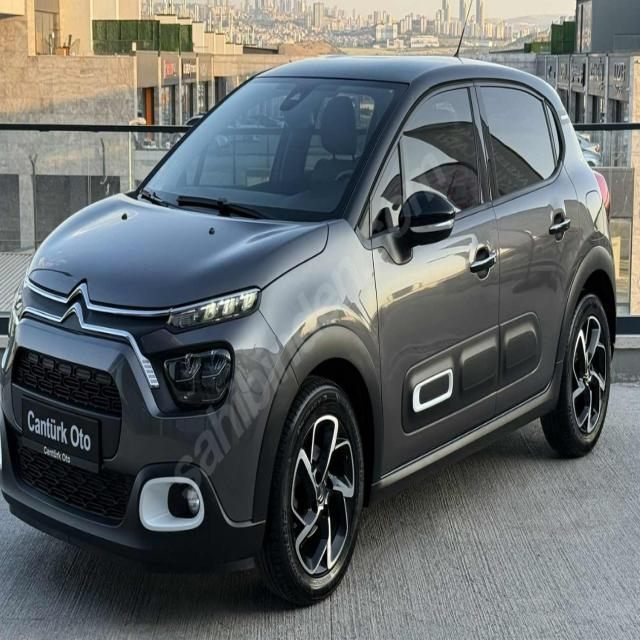citroen: (57, 271, 98, 335)
